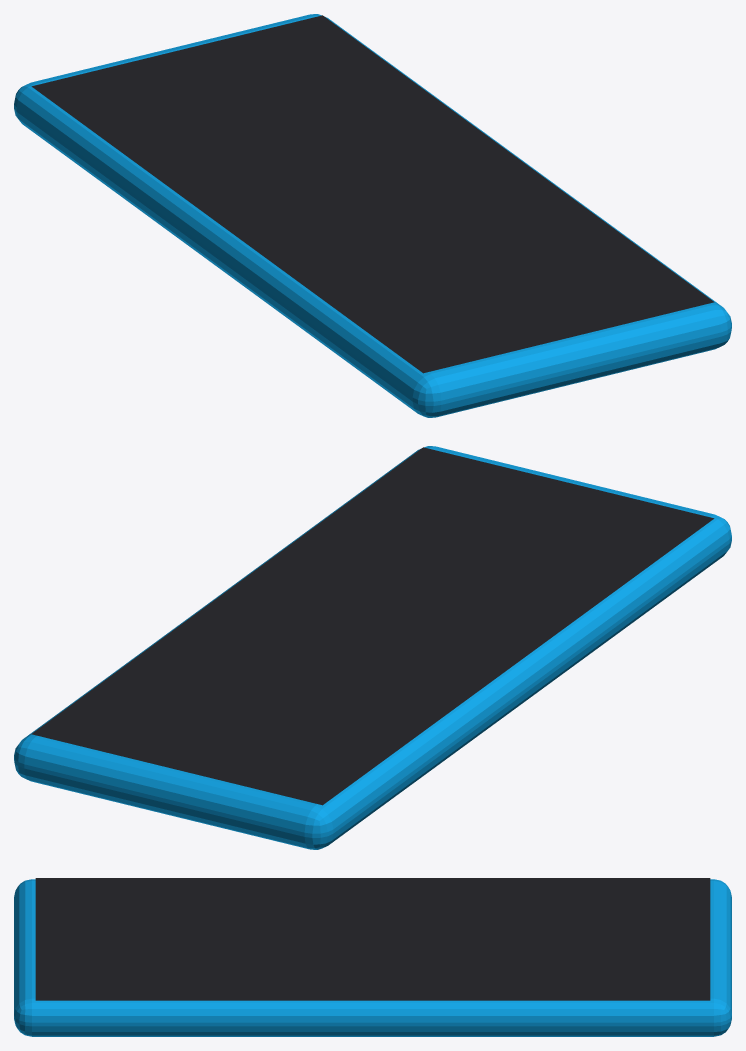
The model's file is iqoo-neo-model-197-mid-range-2026.glb.
3 views of the same model, one above another, from view 1: azimuth 30°, elevation 25°; view 2: azimuth 150°, elevation 25°; view 3: azimuth 270°, elevation 25° (orthographic). The views are drawn at different scales.
Parts seen in each view (by area): view 1: Phone_Screen, Phone_Body; view 2: Phone_Screen, Phone_Body; view 3: Phone_Screen, Phone_Body.
Boxes of the visible parts, box(x1,y1,x2,y2) form: Phone_Screen: box(31, 15, 714, 373); Phone_Body: box(14, 14, 731, 417); Phone_Screen: box(31, 447, 714, 805); Phone_Body: box(14, 446, 731, 849); Phone_Screen: box(35, 878, 710, 1000); Phone_Body: box(14, 879, 731, 1036).
Size of the model in its own units: 0.0735 by 0.0095 by 0.1676.
